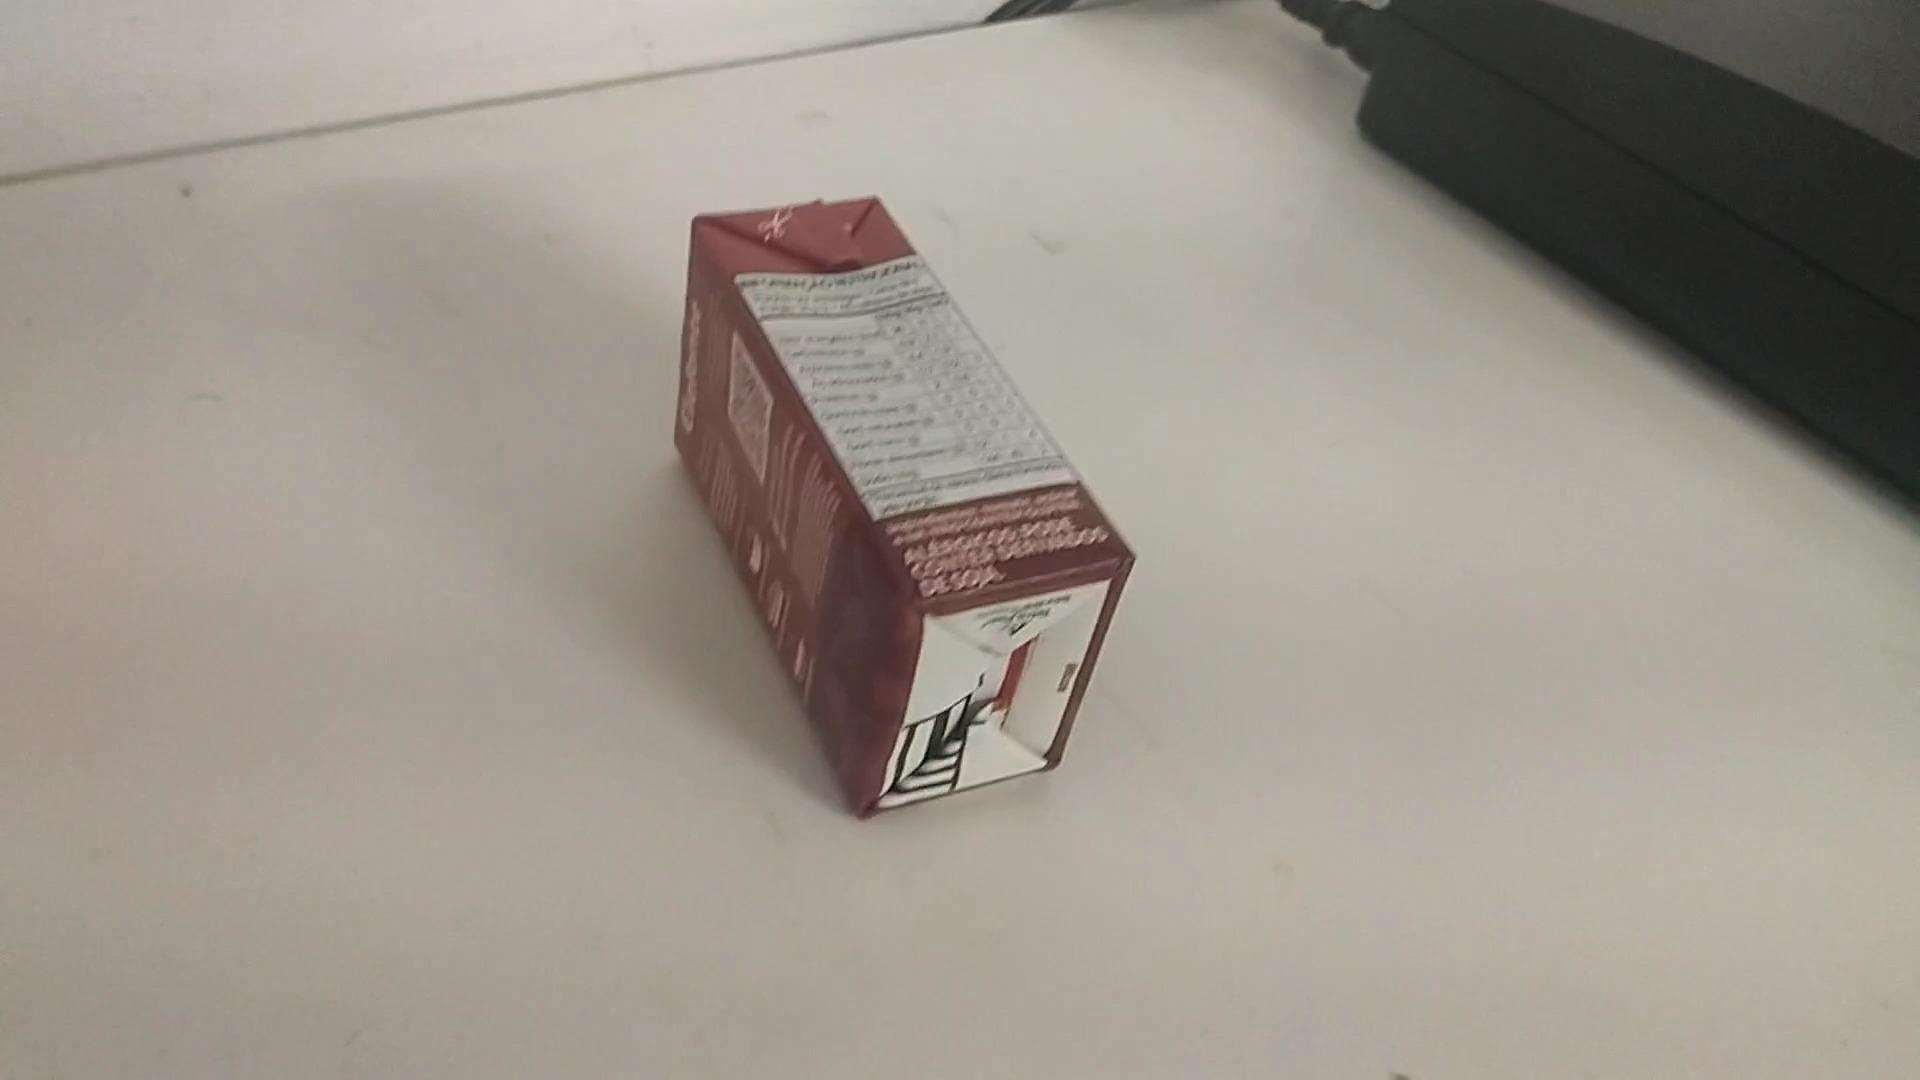tomate: (666, 177, 1156, 824)
